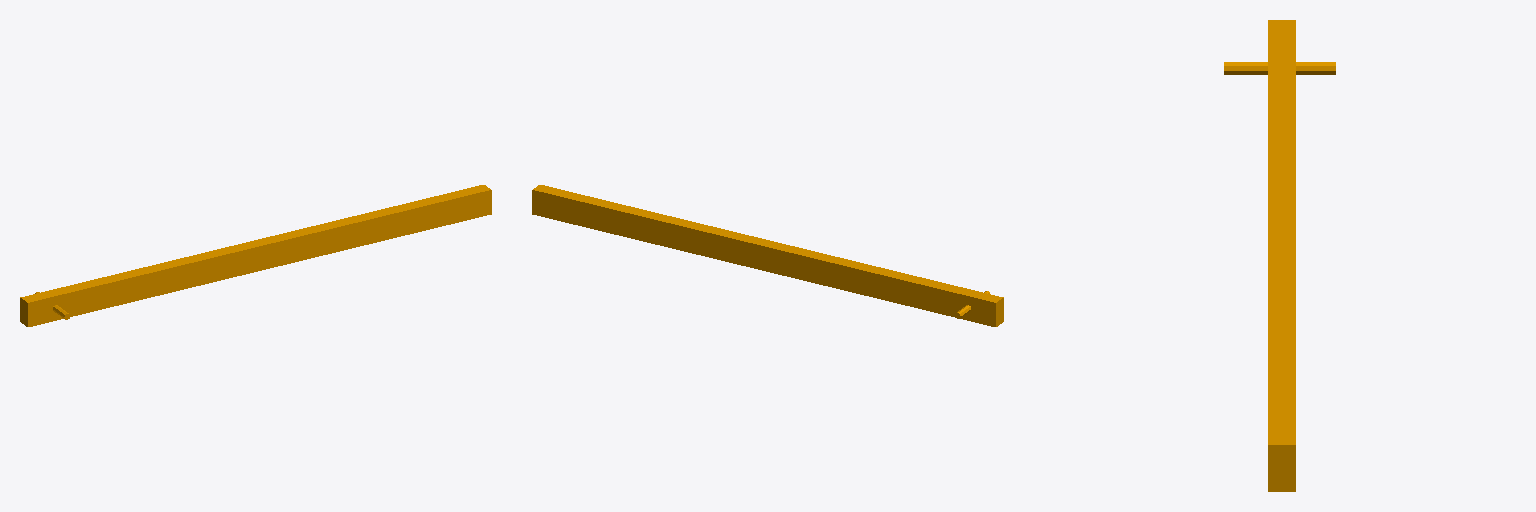
The robot description file, URDF, robot "myfirst":
<?xml version="1.0"?>
<robot name="myfirst">
  <link name="base_link">
    <visual>
      <geometry>
        <mesh filename="package://barrier/meshes/barrier1.dae" scale="0.001 0.001 0.001"/>
      </geometry>
    </visual>
  </link>
</robot>

--- What the picture shows (computed from the rendered views, not written in the file) ---
3 views of the same robot in one strip: view 1: azimuth 30°, elevation 25°; view 2: azimuth 150°, elevation 25°; view 3: azimuth 270°, elevation 25° (orthographic).
Model myfirst with 1 links and 0 joints (none), rooted at base_link, posed all joints at 0.
Visible links, largest first — view 1: base_link; view 2: base_link; view 3: base_link.
Boxes of the visible links, <box> form: base_link: <box>20,185,491,326</box>; base_link: <box>532,185,1003,326</box>; base_link: <box>1224,20,1335,491</box>.
Size in the robot's own frame: 0.003 by 0.0003 by 0.0002 metres.
Meshes: 1 distinct files referenced, 1 mesh visuals loaded (1 Collada DAE).
